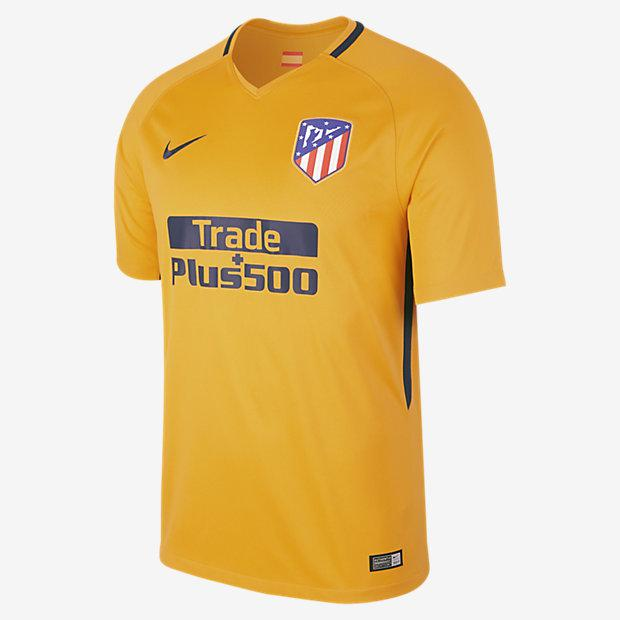teeshirt: (101, 15, 523, 605)
